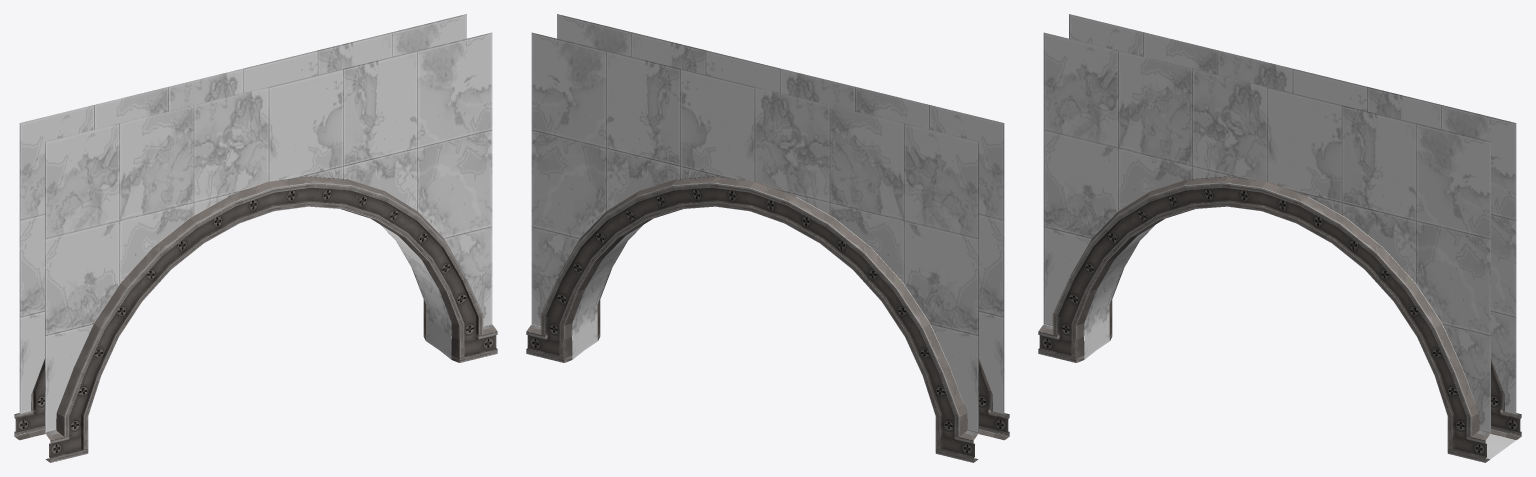
The model's file is Ev_Company_Inner_arch.fbx.
3 renders of one model, left to right at view 1: azimuth 30°, elevation 25°; view 2: azimuth 150°, elevation 25°; view 3: azimuth 330°, elevation 25°, orthographic.
Visible parts, largest first — view 1: Ev_Company_Inner_arch; view 2: Ev_Company_Inner_arch; view 3: Ev_Company_Inner_arch.
Part boxes in pixels (<box>): Ev_Company_Inner_arch: <box>14,14,497,462</box>; Ev_Company_Inner_arch: <box>526,14,1009,462</box>; Ev_Company_Inner_arch: <box>1038,14,1521,462</box>.
Size of the model in its own units: 400 by 55.75 by 271.
